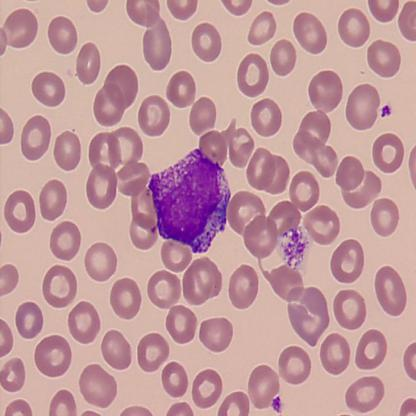Myelocyte: (149, 150, 232, 254)
